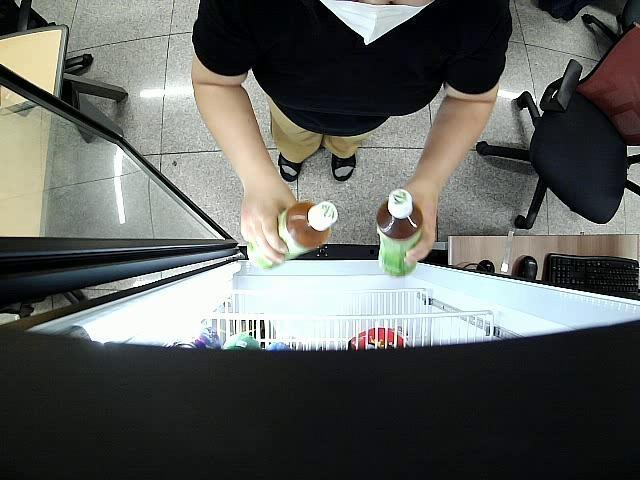19_17cha: (247, 199, 337, 270), (376, 186, 423, 278)
